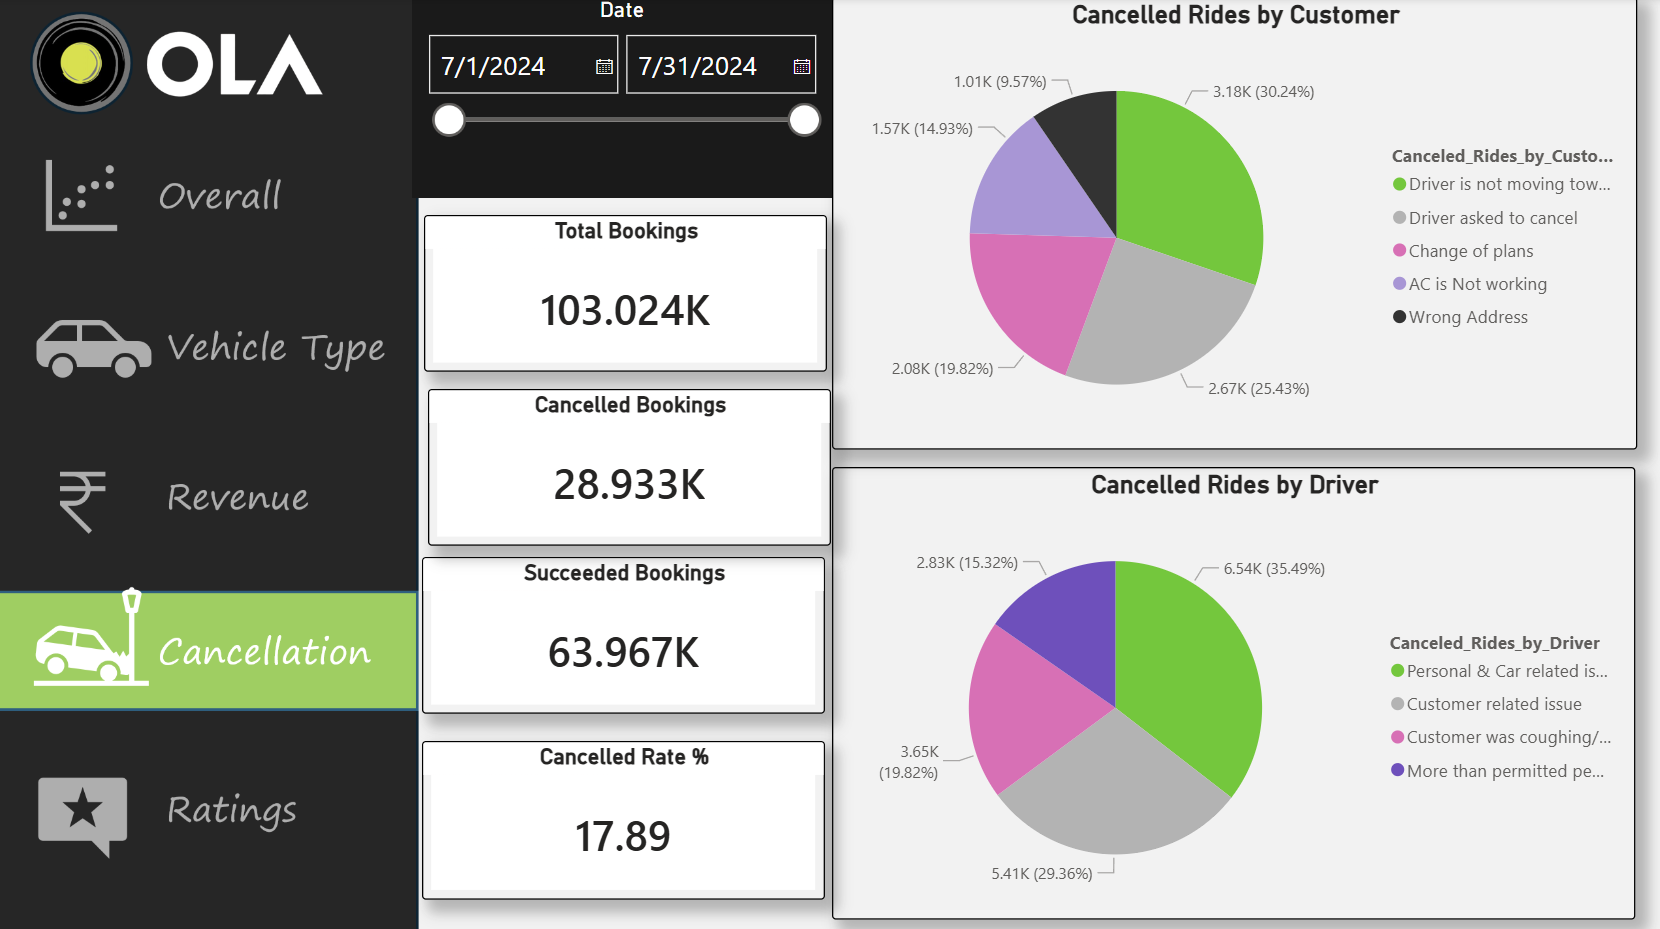

What the dashboard file says about the page in this screenshot:
{"tool":"powerbi","page":{"name":"Cancellations","canvas":[1280,720],"ordinal":3},"visuals":[{"type":"actionButton","box":[0,226.4,321.9,89.9],"z":0},{"type":"actionButton","box":[0,339,321.9,89.9],"z":1000},{"type":"actionButton","box":[0,577.8,321.9,89.9],"z":2000},{"type":"actionButton","box":[0,108.1,321.9,89.9],"z":3000},{"type":"pieChart","title":"Cancelled Rides by Customer","fields":{"Y":["CountNonNull(Bookings1.Canceled_Rides_by_Customer)"],"Category":["Bookings1.Canceled_Rides_by_Customer"]},"box":[640,0,616.7,346.7],"z":4000},{"type":"pieChart","title":"Cancelled Rides by Driver","fields":{"Category":["Bookings1.Canceled_Rides_by_Driver"],"Y":["CountNonNull(Bookings1.Canceled_Rides_by_Driver)"]},"box":[640,360,615,346.7],"z":5000},{"type":"slicer","title":"Date","fields":{"Values":["Bookings1.Date"]},"box":[318.3,0,321.7,153.3],"z":6000},{"type":"cardVisual","title":"Total Bookings","fields":{"Data":["Count(Bookings1.Booking_ID)"]},"box":[328.3,166.7,308.3,120],"z":7000},{"type":"cardVisual","title":"Succeeded Bookings","fields":{"Data":["Count(Bookings1.Booking_ID)"]},"box":[326.7,428.3,308.3,120],"z":8000},{"type":"cardVisual","title":"Cancelled Bookings","fields":{"Data":["Count(Bookings1.Booking_ID)"]},"box":[330,300,308.3,120],"z":9000},{"type":"cardVisual","title":"Cancelled Rate %","fields":{"Data":["July.Canceled percentage"]},"box":[326.7,570,308.3,121.7],"z":10000}]}

Visuals, with their boxes in screenshot pixels (x1, y1, x2, y2), scaled from the page's 1280x720 canvas onto the 1660x929 screenshot:
actionButton: rect(0, 292, 417, 408)
actionButton: rect(0, 437, 417, 553)
actionButton: rect(0, 746, 417, 862)
actionButton: rect(0, 139, 417, 255)
"Cancelled Rides by Customer" pieChart: rect(830, 0, 1630, 447)
"Cancelled Rides by Driver" pieChart: rect(830, 464, 1628, 912)
"Date" slicer: rect(413, 0, 830, 198)
"Total Bookings" cardVisual: rect(426, 215, 826, 370)
"Succeeded Bookings" cardVisual: rect(424, 553, 824, 707)
"Cancelled Bookings" cardVisual: rect(428, 387, 828, 542)
"Cancelled Rate %" cardVisual: rect(424, 735, 824, 892)
